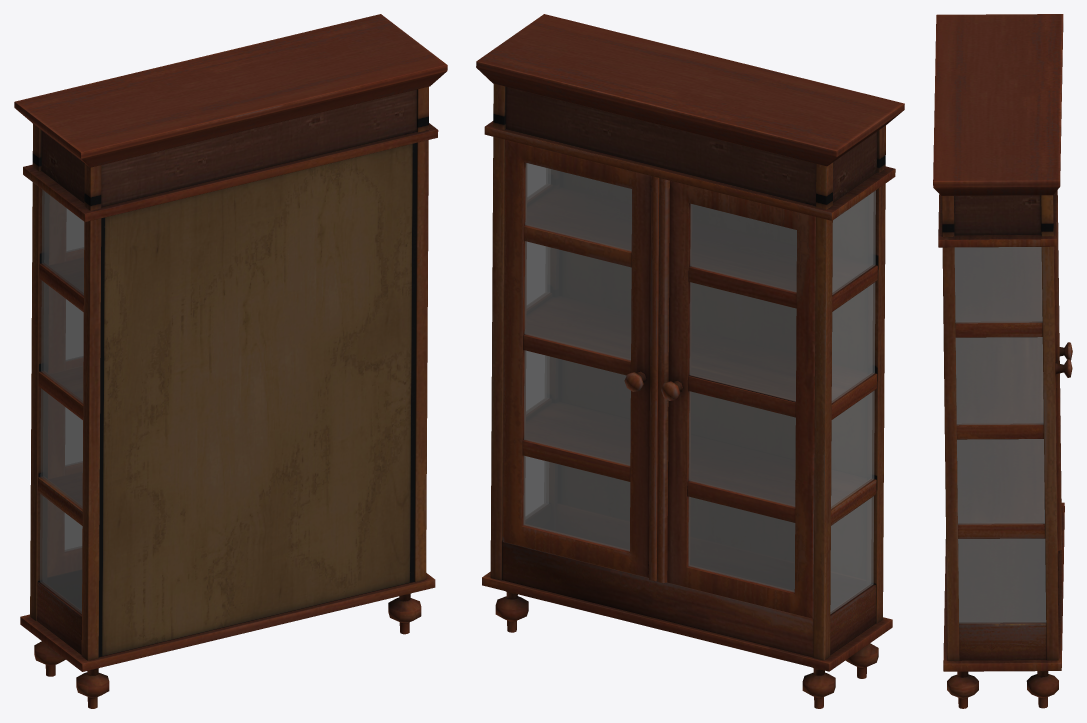
File: Closet1.obj
The picture shows the model from 3 angles, left to right: view 1: azimuth 30°, elevation 25°; view 2: azimuth 150°, elevation 25°; view 3: azimuth 270°, elevation 25°; orthographic projection. The views are drawn at different scales.
Parts seen in each view (by area): view 1: 10224_Curio_Cabinet__Glass_Front_v1_SG, 10224_Curio_Cabinet__Glass_Front__Glass_Front_v1_glass_SG, 10224_Curio_Cabinet__Glass_Front_v1_door1_SG, 10224_Curio_Cabinet__Glass_Front_v1_glass_door1_SG; view 2: 10224_Curio_Cabinet__Glass_Front_v1_SG, 10224_Curio_Cabinet__Glass_Front_v1_glass_door1_SG, 10224_Curio_Cabinet__Glass_Front_v1_glass_door2_SG, 10224_Curio_Cabinet__Glass_Front_v1_door1_SG, 10224_Curio_Cabinet__Glass_Front_v1_door2_SG, 10224_Curio_Cabinet__Glass_Front__Glass_Front_v1_glass_SG; view 3: 10224_Curio_Cabinet__Glass_Front_v1_SG, 10224_Curio_Cabinet__Glass_Front__Glass_Front_v1_glass_SG, 10224_Curio_Cabinet__Glass_Front_v1_door2_SG, 10224_Curio_Cabinet__Glass_Front_v1_door1_SG.
Part boxes in pixels (x1,y1,x2,y2): 10224_Curio_Cabinet__Glass_Front_v1_SG: [14, 14, 447, 708]; 10224_Curio_Cabinet__Glass_Front__Glass_Front_v1_glass_SG: [40, 190, 84, 613]; 10224_Curio_Cabinet__Glass_Front_v1_door1_SG: [47, 196, 83, 576]; 10224_Curio_Cabinet__Glass_Front_v1_glass_door1_SG: [65, 209, 83, 550]; 10224_Curio_Cabinet__Glass_Front_v1_SG: [476, 14, 904, 708]; 10224_Curio_Cabinet__Glass_Front_v1_glass_door1_SG: [688, 204, 796, 592]; 10224_Curio_Cabinet__Glass_Front_v1_glass_door2_SG: [523, 163, 631, 551]; 10224_Curio_Cabinet__Glass_Front_v1_door1_SG: [656, 178, 815, 618]; 10224_Curio_Cabinet__Glass_Front_v1_door2_SG: [502, 139, 659, 581]; 10224_Curio_Cabinet__Glass_Front__Glass_Front_v1_glass_SG: [526, 164, 875, 613]; 10224_Curio_Cabinet__Glass_Front_v1_SG: [933, 14, 1064, 708]; 10224_Curio_Cabinet__Glass_Front__Glass_Front_v1_glass_SG: [954, 247, 1046, 623]; 10224_Curio_Cabinet__Glass_Front_v1_door2_SG: [1053, 203, 1072, 566]; 10224_Curio_Cabinet__Glass_Front_v1_door1_SG: [1057, 195, 1072, 534].
Bounding box in the file's own units: 132 × 198 × 46.64.
2 materials, 1 textured.
